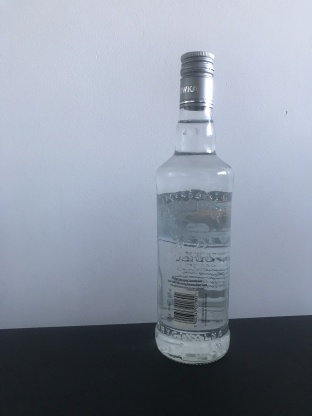nakretka: (178, 48, 216, 112)
